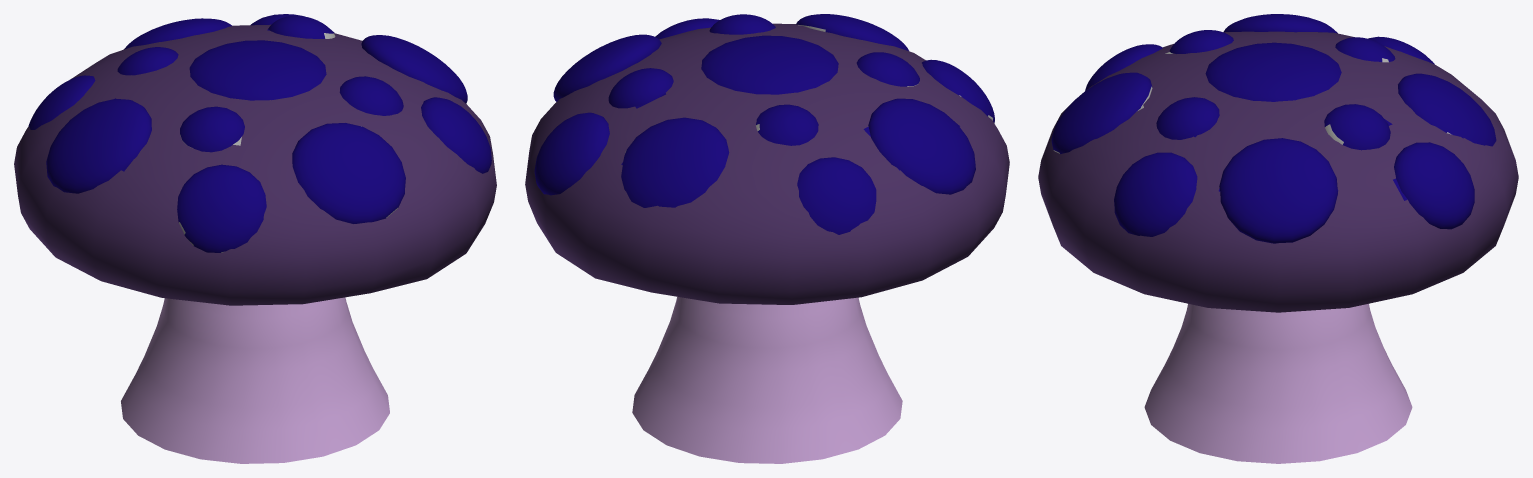
Rendered from hongoMoradoAzul.fbx.
3 views of the same model, side by side, from view 1: azimuth 30°, elevation 25°; view 2: azimuth 150°, elevation 25°; view 3: azimuth 270°, elevation 25° (orthographic).
Parts seen in each view (by area): view 1: Hongo; view 2: Hongo; view 3: Hongo.
Part boxes in pixels (x1,y1,x2,y2): Hongo: (14,14,496,463); Hongo: (525,14,1009,463); Hongo: (1038,14,1518,463).
Bounding box in the file's own units: 4 × 3.2 × 4.
